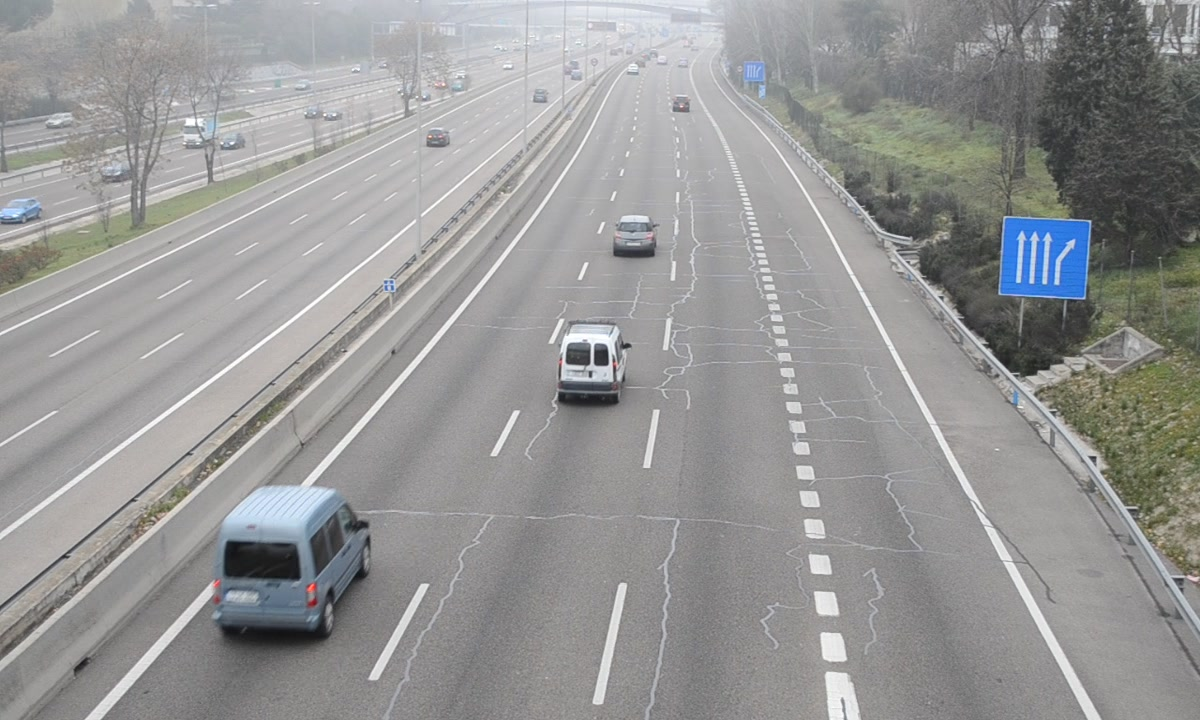car: (612, 214, 656, 255)
van: (216, 486, 370, 631), (558, 324, 626, 401)
